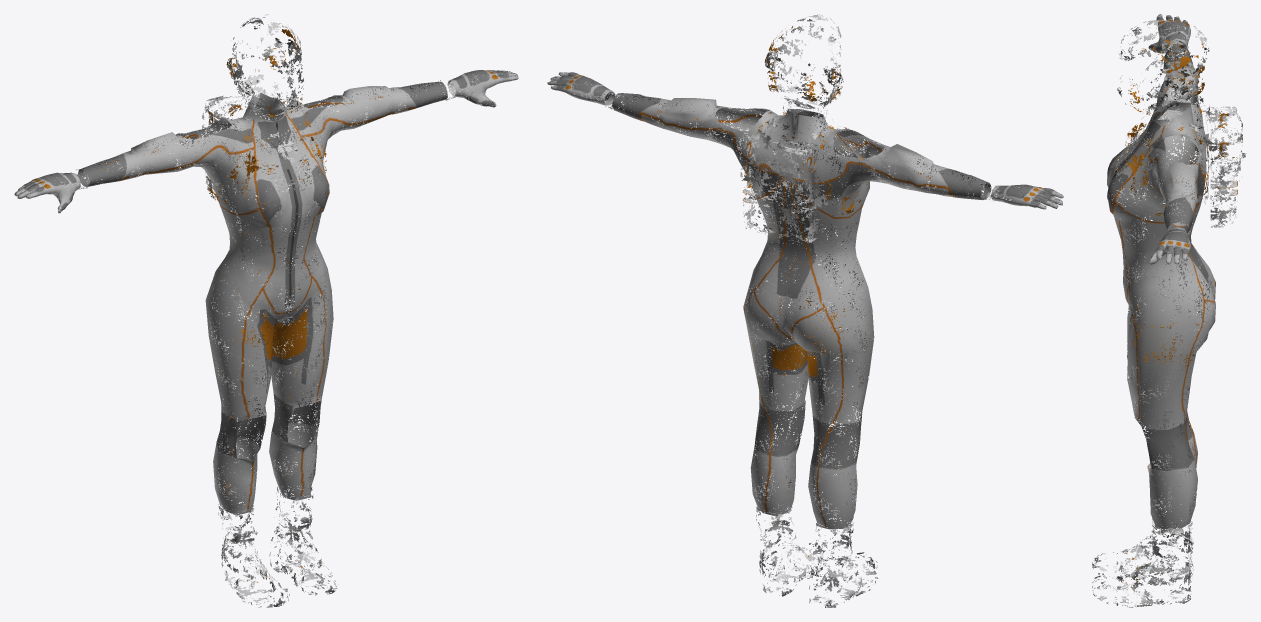
Rendered from costume.obj.
3 views of the same model, side by side, from view 1: azimuth 30°, elevation 25°; view 2: azimuth 150°, elevation 25°; view 3: azimuth 270°, elevation 25° (orthographic). The views are drawn at different scales.
Parts seen in each view (by area): view 1: costume_Costume_lp.000, helmet_Costume_lp.002, backpack_Costume_lp.001; view 2: costume_Costume_lp.000, backpack_Costume_lp.001, helmet_Costume_lp.002; view 3: costume_Costume_lp.000, backpack_Costume_lp.001, helmet_Costume_lp.002.
Part boxes in pixels (box(x1,y1,x2,y2)): costume_Costume_lp.000: box(14, 70, 518, 607); helmet_Costume_lp.002: box(226, 14, 303, 117); backpack_Costume_lp.001: box(202, 86, 326, 203); costume_Costume_lp.000: box(547, 72, 1063, 607); backpack_Costume_lp.001: box(740, 102, 865, 243); helmet_Costume_lp.002: box(764, 14, 843, 108); costume_Costume_lp.000: box(1092, 14, 1215, 607); backpack_Costume_lp.001: box(1125, 96, 1246, 227); helmet_Costume_lp.002: box(1117, 20, 1209, 113).
Bounding box in the file's own units: 1.74 × 1.86 × 0.4609.
Materials: 1 (1 with a texture image).
